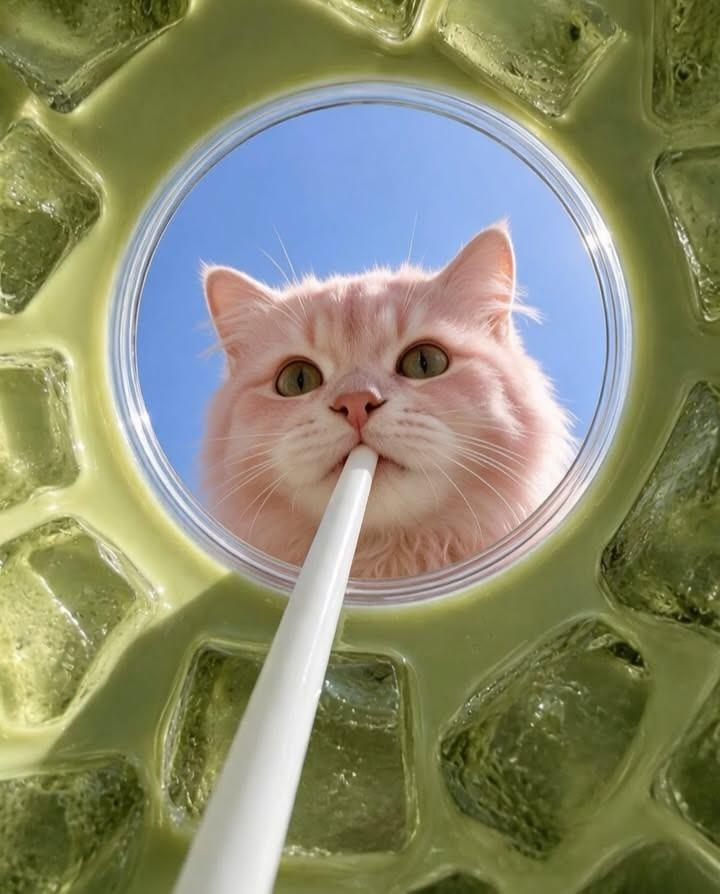non-dog: (198, 214, 577, 581)
